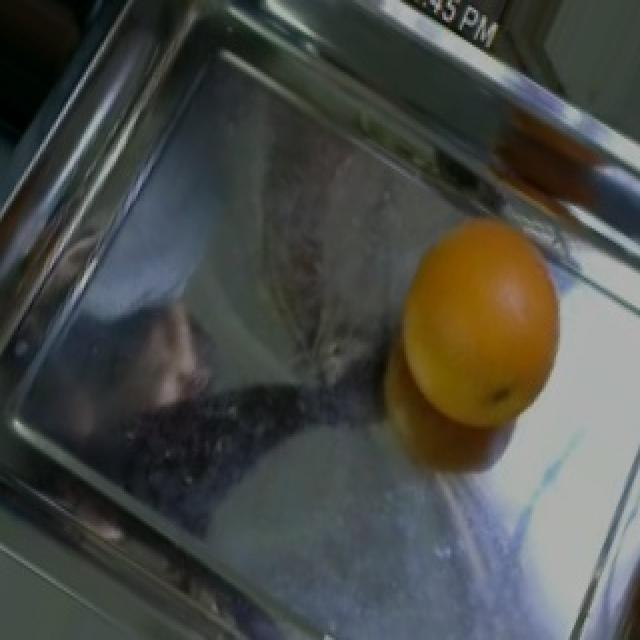Fruit: (372, 206, 588, 449)
